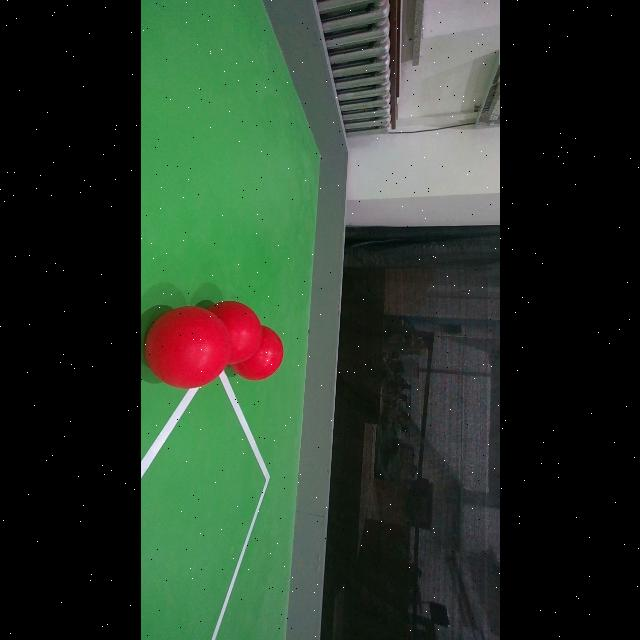R: (144, 306, 230, 388), (204, 303, 266, 369), (236, 324, 284, 380)
